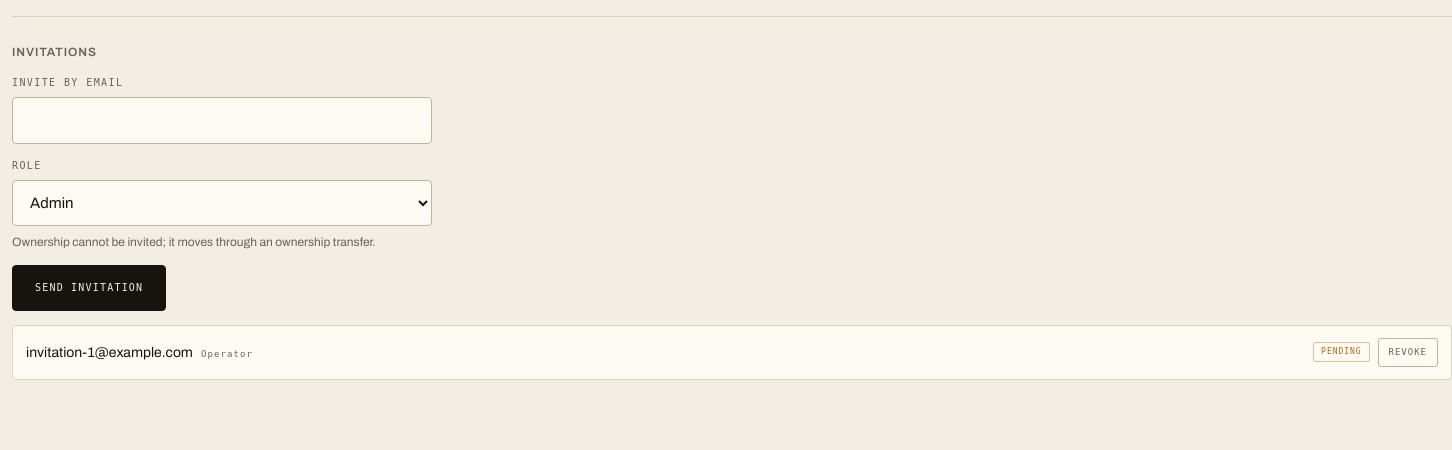
Scenario: InvitationPanel revoking › reports a refused revocation
What coordinates should you click on to do the following:
click the button "REVOKE"
I would click on:
 (1408, 352)
Its box is x1=1378 y1=338 x2=1438 y2=367.
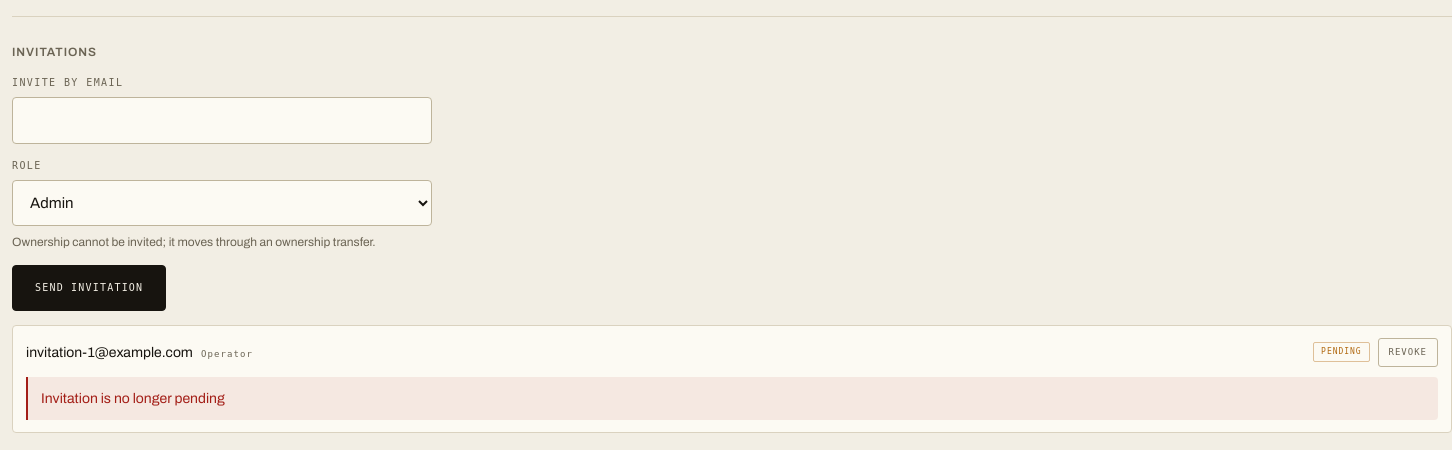
Expected: the message shows "no longer pending", x1=41 y1=391 x2=225 y2=406
